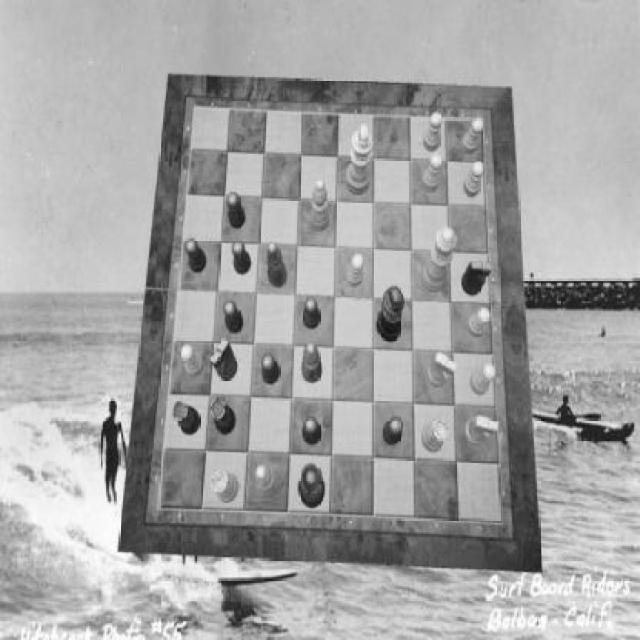bishop: (268, 242, 288, 288), (302, 343, 322, 385)
black-bishop: (377, 286, 405, 342)
black-king: (211, 338, 238, 381), (462, 260, 492, 296)
black-knight: (227, 192, 246, 230), (186, 239, 207, 273), (232, 240, 252, 275), (223, 300, 243, 334), (303, 297, 321, 331), (383, 417, 403, 445), (262, 354, 280, 384), (302, 417, 321, 445)
black-pawn: (298, 463, 326, 509)
black-queen: (172, 402, 202, 436), (212, 399, 237, 436)
black-rook: (311, 178, 331, 231), (256, 464, 280, 498)
white-bishop: (346, 125, 374, 197)
white-king: (465, 416, 500, 446), (428, 352, 458, 387)
white-knight: (462, 117, 484, 155), (180, 344, 204, 378), (472, 365, 497, 397), (423, 112, 442, 152), (463, 162, 484, 198), (423, 154, 443, 191), (466, 308, 491, 337), (346, 254, 366, 288)
white-pawn: (422, 228, 458, 293)
white-queen: (422, 418, 449, 452), (211, 471, 238, 503)
